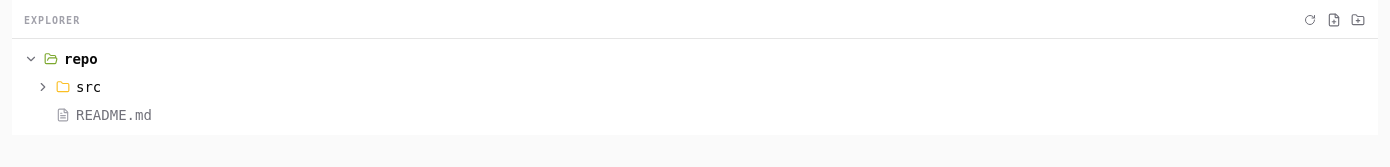
Test: expanding folders › shows a per-directory error inline, leaving the rest usable
What coordinates should you click on to do the following:
click the button "src"
I would click on:
 (43, 87)
Its box is left=36, top=76, right=1370, bottom=98.
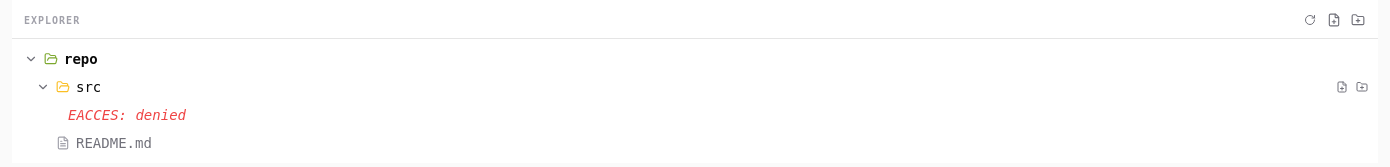
Expected: the text "README.md" is shown, left=76, top=134, right=152, bottom=150
Expected: the text "EACCES: denied" is shown, left=68, top=104, right=186, bottom=126
